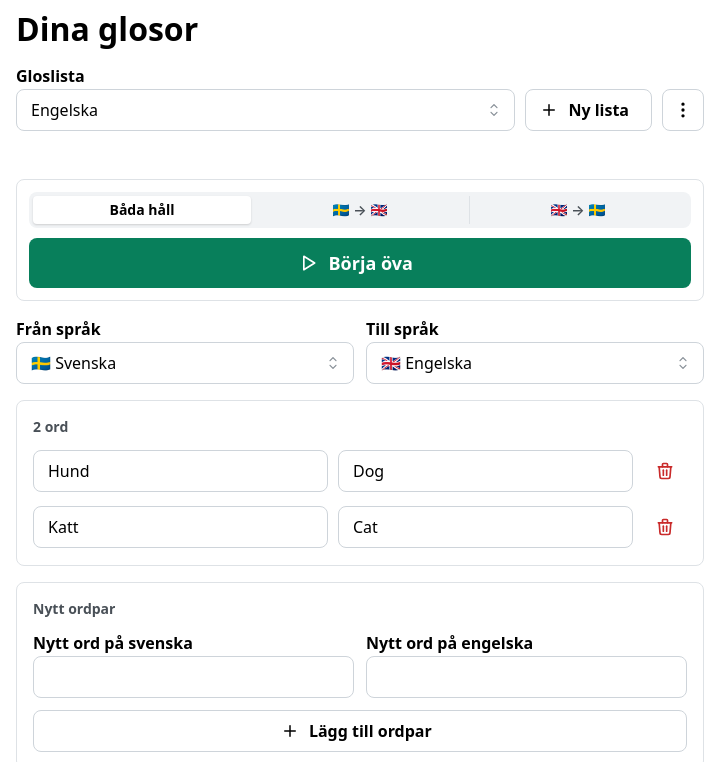
Test: EditPage › adds a word pair and saves it
The width and height of the screenshot is (721, 762).
Expected: the dropdown labelled "Gloslista" is shown, [16,89,515,131]
Type "Fisk" into the field labelled "Nytt ord på svenska" at x=194, y=677, box [33,656,354,698]
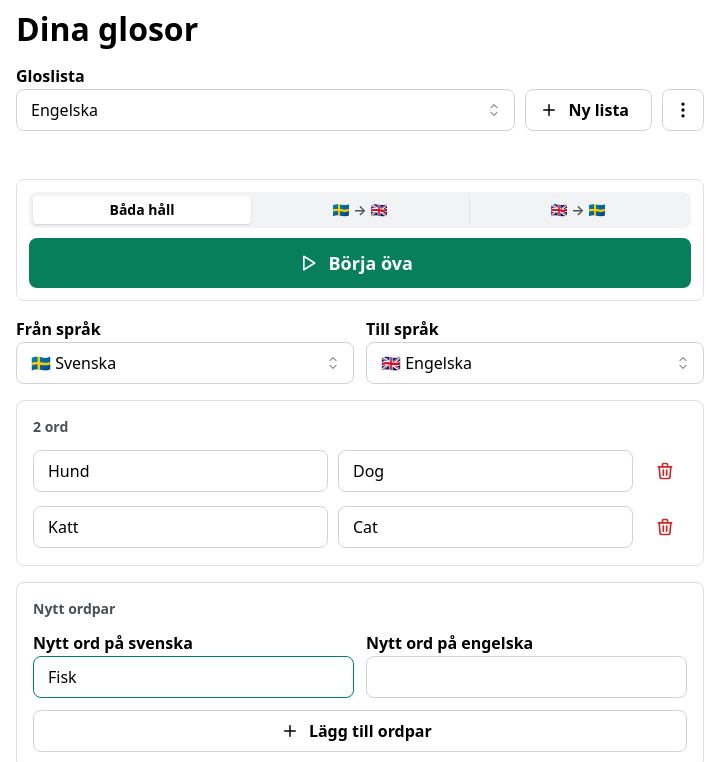
Type "Fish" into the field labelled "Nytt ord på engelska" at x=526, y=677, box [366,656,687,698]
Then press Enter
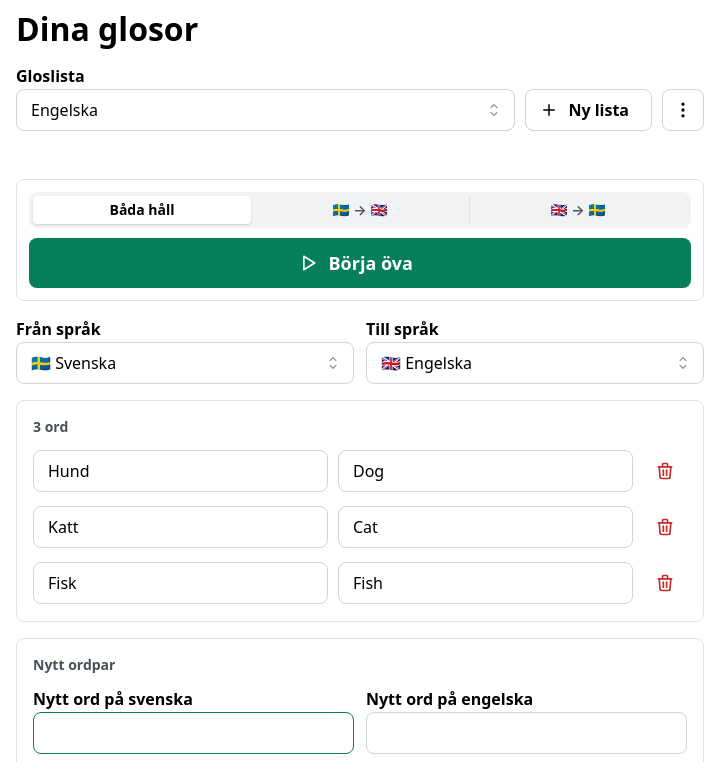
Result: the field named "Ord 3, höger (engelska)" holds "Fish" at [338,562,633,604]
